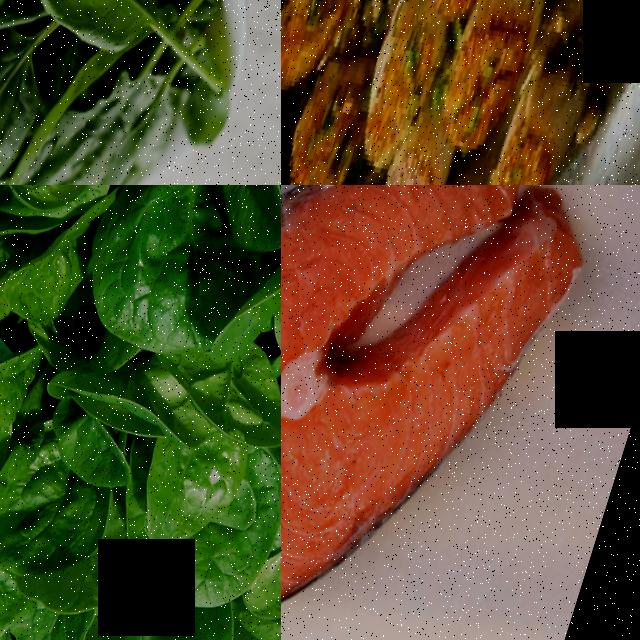salmon: (281, 185, 627, 640)
sea scallops: (430, 0, 551, 176), (345, 0, 447, 184), (474, 66, 588, 185), (571, 0, 640, 104), (359, 143, 454, 185)
spinach: (71, 201, 248, 382), (1, 0, 197, 84), (0, 461, 116, 602), (133, 440, 245, 567), (0, 25, 64, 185), (48, 417, 143, 504), (109, 596, 242, 640), (3, 601, 95, 640)
